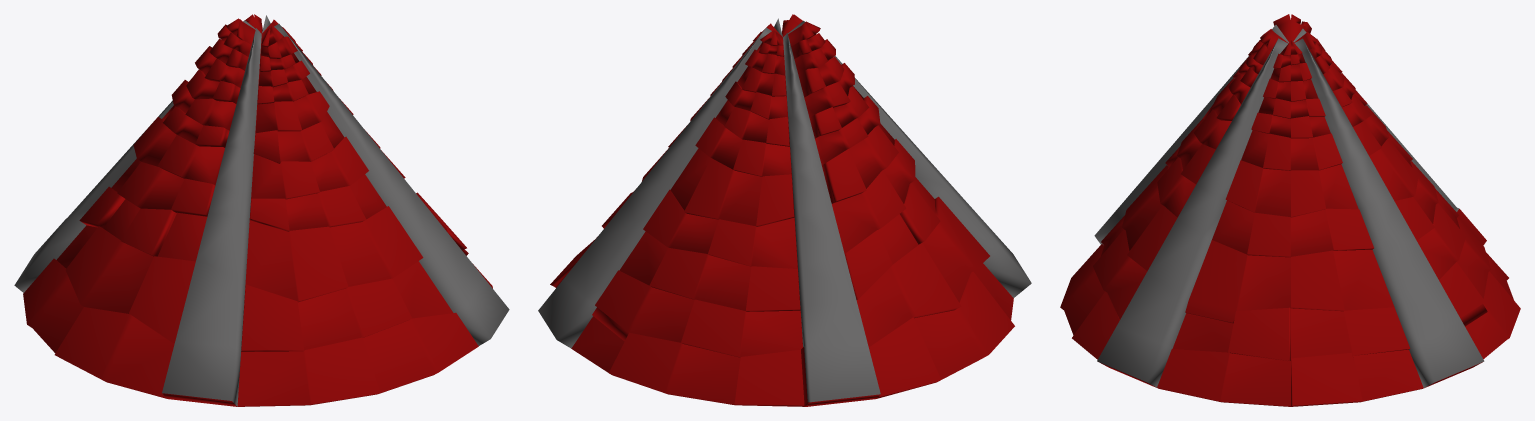
File: castle_pointed_tower_roof.fbx
3 views of the same model, side by side, from view 1: azimuth 30°, elevation 25°; view 2: azimuth 150°, elevation 25°; view 3: azimuth 270°, elevation 25° (orthographic). The views are drawn at different scales.
Parts seen in each view (by area): view 1: peeked_roof; view 2: peeked_roof; view 3: peeked_roof.
Part boxes in pixels (x1=…): peeked_roof: x1=14, y1=14, x2=509, y2=406; peeked_roof: x1=538, y1=14, x2=1031, y2=406; peeked_roof: x1=1060, y1=14, x2=1520, y2=406.
Bounding box in the file's own units: 1441 × 982 × 1426.
Materials: 1 (1 with a texture image).
